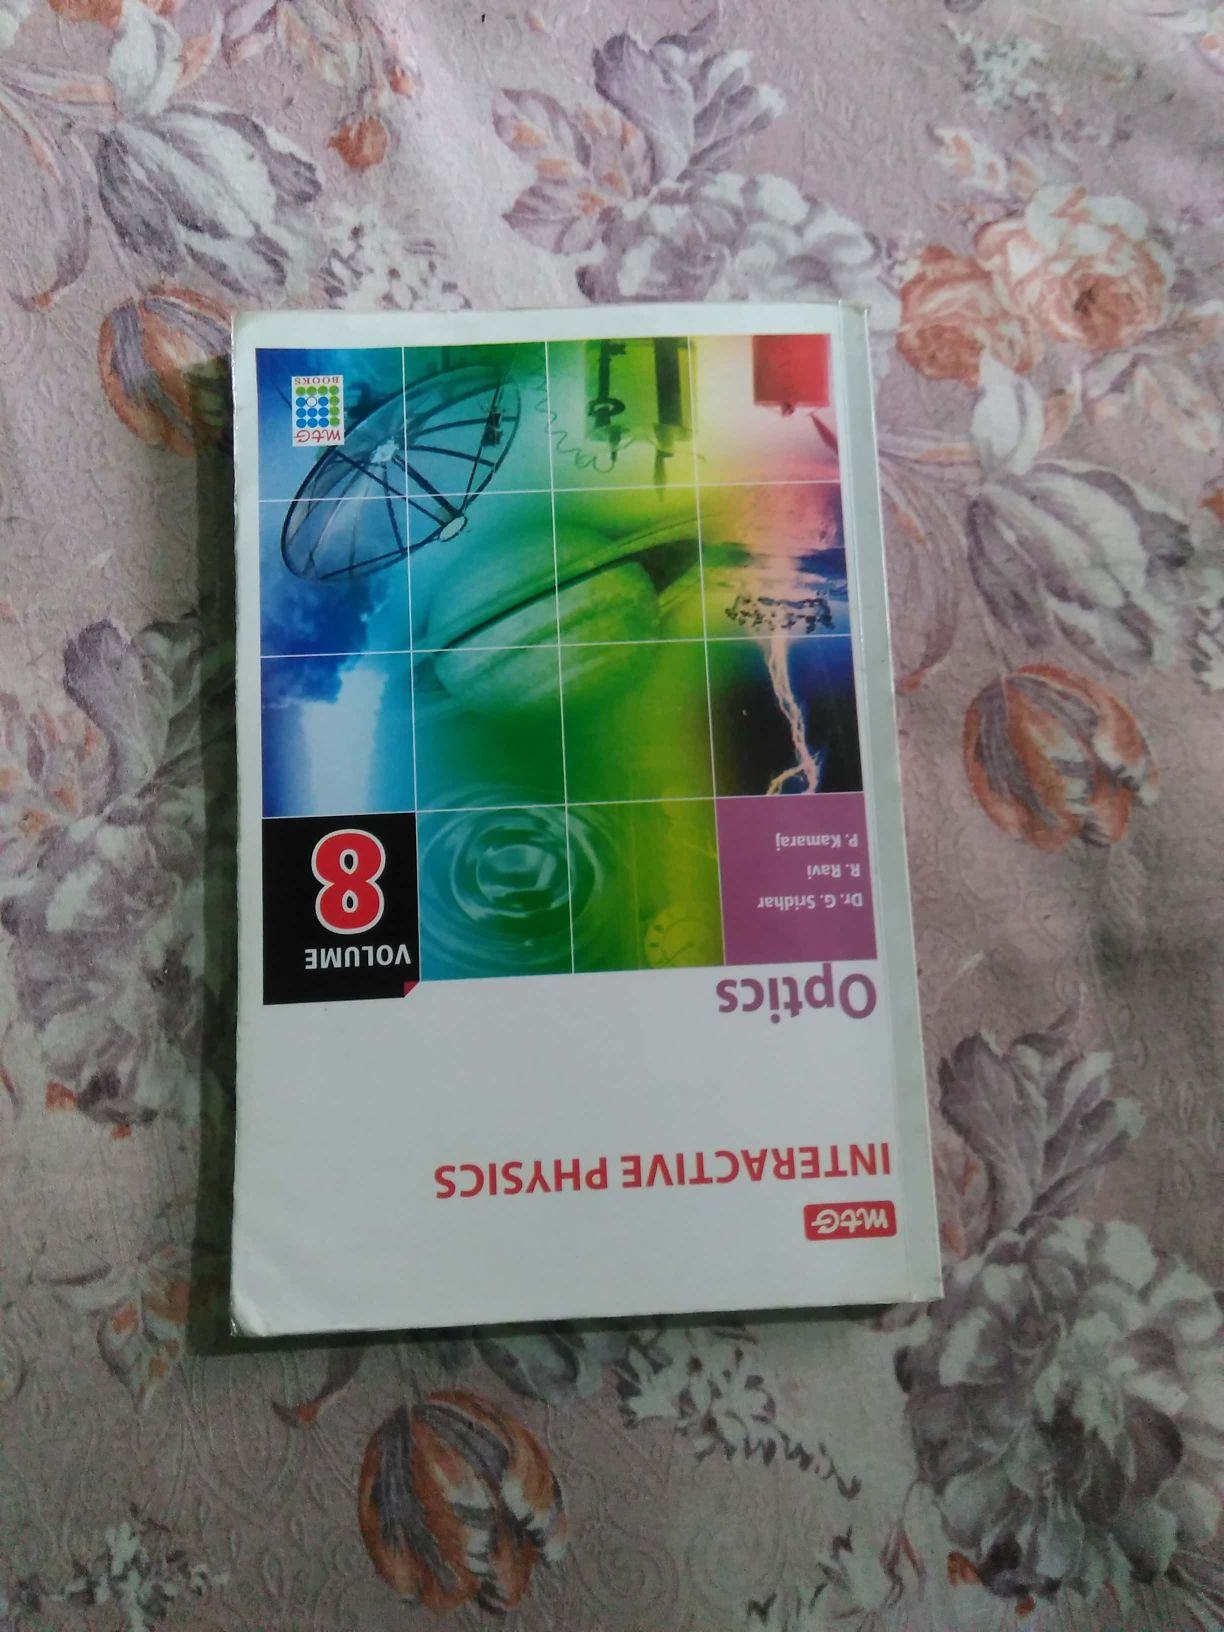optics: (201, 290, 1036, 1307)
